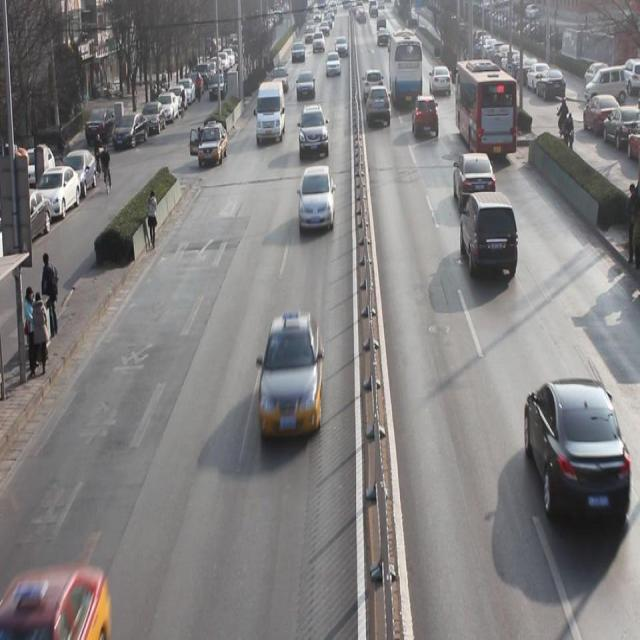car: (524, 372, 623, 533), (258, 318, 325, 448), (460, 192, 519, 288), (296, 166, 336, 238), (453, 153, 496, 212), (298, 106, 330, 164), (199, 124, 227, 168), (413, 96, 440, 141), (367, 89, 391, 127), (364, 70, 384, 108), (429, 67, 452, 99), (296, 74, 315, 103), (271, 65, 288, 96), (324, 55, 340, 82)
truck: (255, 83, 286, 147)
van: (456, 62, 517, 158), (388, 34, 422, 107)
